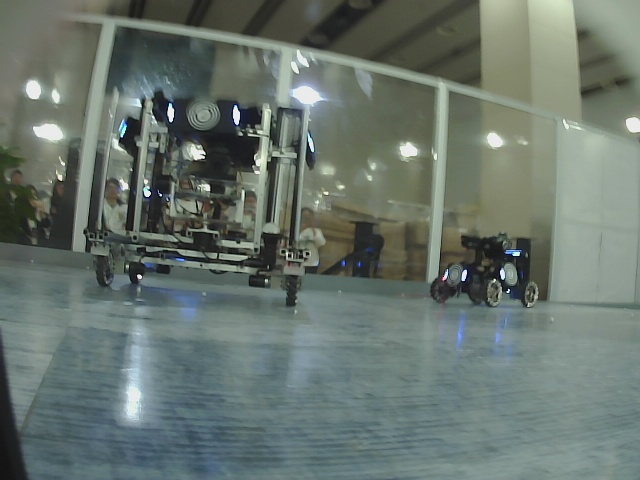lamp: (231, 103, 240, 125), (166, 102, 174, 122), (499, 266, 506, 281), (460, 267, 466, 281), (443, 267, 448, 281)
pair: (167, 103, 241, 124)
pairw: (443, 267, 468, 282)
